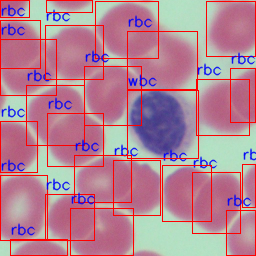rbc: (127, 31, 197, 89), (95, 1, 158, 58), (26, 85, 84, 145), (84, 66, 141, 125), (0, 39, 56, 95), (45, 25, 103, 79), (0, 175, 47, 240), (47, 113, 103, 166), (196, 79, 249, 135), (70, 208, 133, 255), (192, 172, 240, 233), (162, 165, 211, 221), (206, 1, 255, 56), (74, 155, 131, 202), (113, 160, 160, 215), (45, 194, 94, 240), (0, 20, 40, 68), (0, 121, 37, 172), (230, 68, 255, 122), (226, 210, 255, 255), (10, 239, 67, 255), (242, 164, 255, 207), (46, 0, 92, 12), (0, 0, 29, 17)
wbc: (127, 90, 198, 158)
